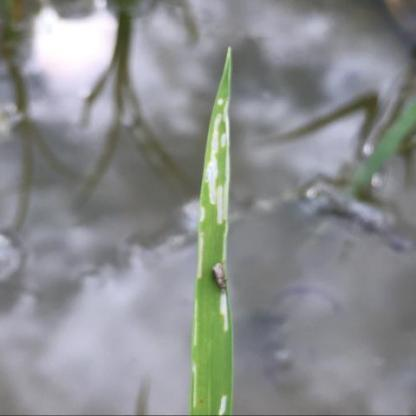rice-bug: (206, 260, 232, 292)
